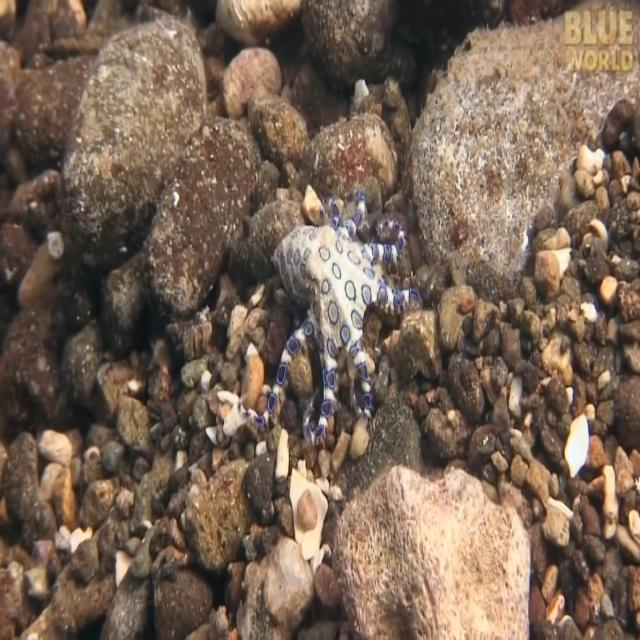blue_ringed_octopus: (238, 188, 423, 448)
